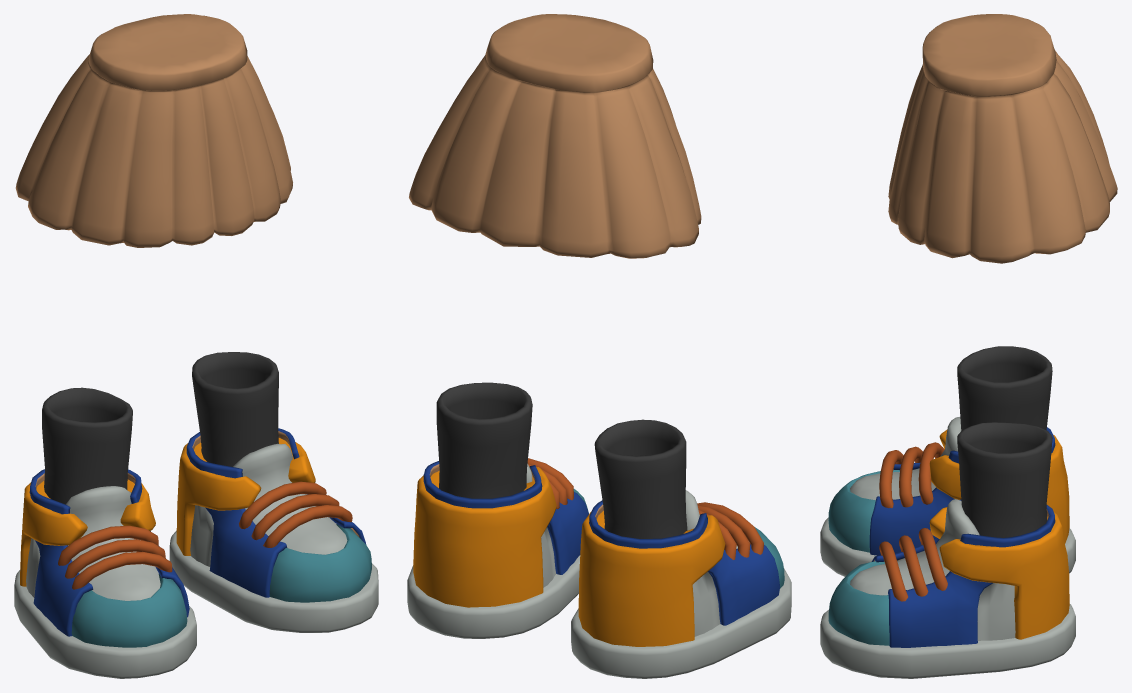
File: pants1.fbx
3 renders of one model, left to right at view 1: azimuth 30°, elevation 25°; view 2: azimuth 150°, elevation 25°; view 3: azimuth 270°, elevation 25°, orthographic. The views are drawn at different scales.
Parts seen in each view (by area): view 1: skirt_l; view 2: skirt_l; view 3: skirt_l.
Boxes of the visible parts, <box> form: skirt_l: <box>14,14,378,678</box>; skirt_l: <box>407,14,791,678</box>; skirt_l: <box>820,14,1117,678</box>.
Size of the model in its own units: 45.79 by 76.2 by 36.82.
